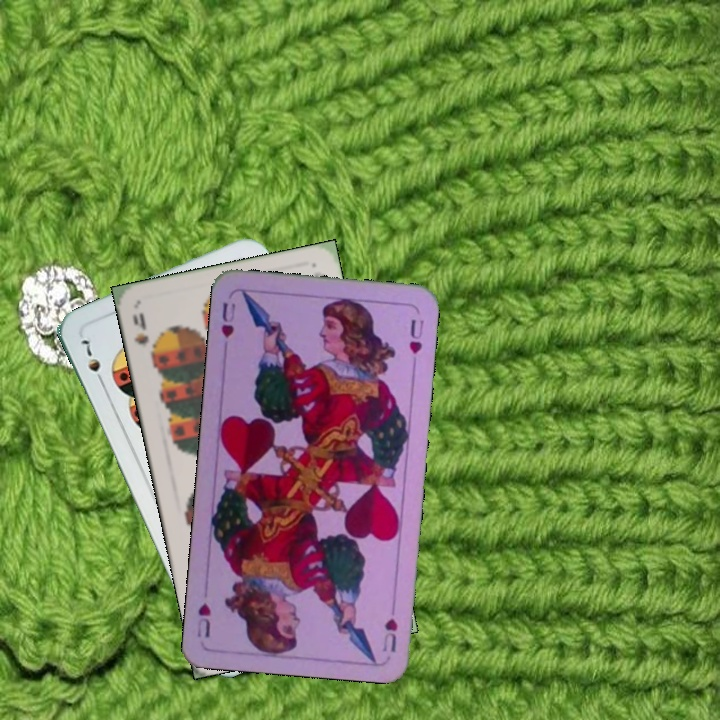HU: (378, 598, 400, 655), (217, 298, 238, 340)
S7: (76, 332, 108, 389)
S9: (128, 308, 159, 364)
